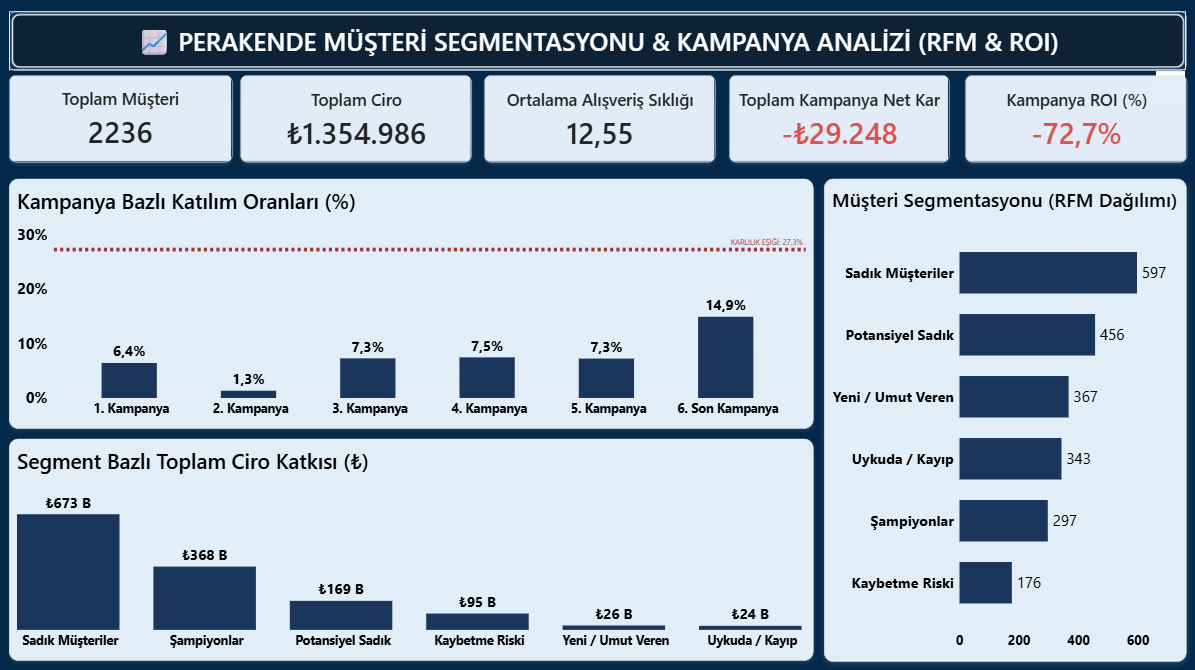

The page's visual inventory and layout, read from the dashboard file:
{"tool":"powerbi","page":{"name":"1. sayfa","canvas":[1920,1080],"ordinal":0},"visuals":[{"type":"cardVisual","fields":{"Data":["CountNonNull(vw_Customer_RFM.ID)"]},"box":[15,120,357.5,140],"z":0},{"type":"clusteredColumnChart","title":"Kampanya Bazlı Katılım Oranları (%)","fields":{"Category":["vw_Campaign_ROI.Kampanya_Adi"],"Y":["Sum(vw_Campaign_ROI.Katilim_Orani_Yuzde)"]},"box":[15,285,1287.5,400],"z":1000},{"type":"cardVisual","fields":{"Data":["Sum(vw_Customer_RFM.Monetary)","Sum(vw_Customer_RFM.Monetary)"]},"box":[386.5,120.5,370,140],"z":2000},{"type":"cardVisual","fields":{"Data":["Avg(vw_Customer_RFM.Frequency)"]},"box":[776.5,120.5,370,140],"z":3000},{"type":"clusteredBarChart","title":"Müşteri Segmentasyonu (RFM Dağılımı)","fields":{"Category":["vw_Customer_RFM.Customer_Segment"],"Y":["CountNonNull(vw_Customer_RFM.ID)"]},"box":[1320,285,580,772.5],"z":4000},{"type":"shape","box":[15,17.5,1885,95],"z":5000},{"type":"cardVisual","fields":{"Data":["Sum(vw_Campaign_ROI.Kampanya_Net_Kar)"]},"box":[1169,120.5,352.5,140],"z":6000},{"type":"cardVisual","fields":{"Data":["Avg(vw_Campaign_ROI.Kampanya_ROI_Yuzde)"]},"box":[1545,120,355,140],"z":7000},{"type":"clusteredColumnChart","title":"Segment Bazlı Toplam Ciro Katkısı (₺)","fields":{"Category":["vw_Customer_RFM.Customer_Segment"],"Y":["Sum(vw_Customer_RFM.Monetary)"]},"box":[15,702.5,1287.5,355],"z":8000}]}

Visuals, with their boxes in screenshot pixels (x1, y1, x2, y2), scaled from the page's 1920x1080 canvas onto the 1195x670 screenshot:
cardVisual - CountNonNull(vw_Customer_RFM.ID): BBox(9, 74, 232, 161)
"Kampanya Bazlı Katılım Oranları (%)" clusteredColumnChart: BBox(9, 177, 811, 425)
cardVisual - Sum(vw_Customer_RFM.Monetary) x Sum(vw_Customer_RFM.Monetary): BBox(241, 75, 471, 162)
cardVisual - Avg(vw_Customer_RFM.Frequency): BBox(483, 75, 714, 162)
"Müşteri Segmentasyonu (RFM Dağılımı)" clusteredBarChart: BBox(822, 177, 1183, 656)
shape: BBox(9, 11, 1183, 70)
cardVisual - Sum(vw_Campaign_ROI.Kampanya_Net_Kar): BBox(728, 75, 947, 162)
cardVisual - Avg(vw_Campaign_ROI.Kampanya_ROI_Yuzde): BBox(962, 74, 1183, 161)
"Segment Bazlı Toplam Ciro Katkısı (₺)" clusteredColumnChart: BBox(9, 436, 811, 656)
